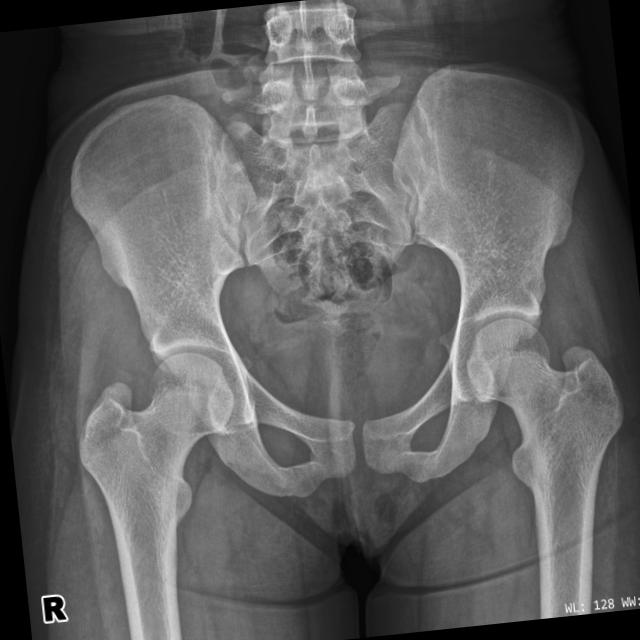normal-left: (468, 318, 623, 619)
normal-right: (79, 353, 233, 640)
